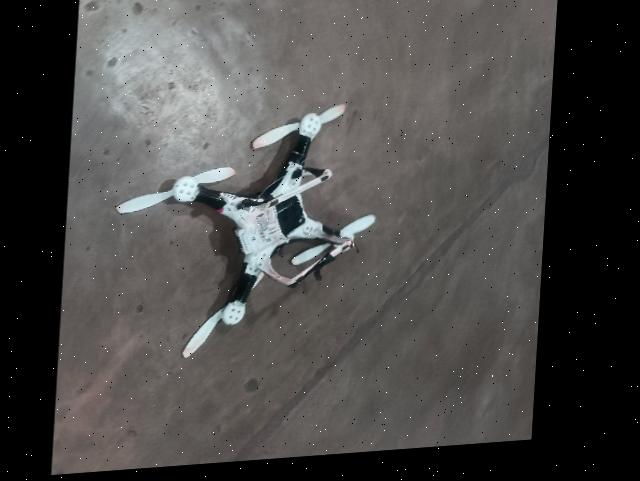drone: (109, 94, 401, 380)
